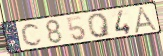4: (114, 9, 132, 35)
5: (65, 14, 87, 42)
8: (44, 19, 65, 45)
A: (133, 6, 160, 35)
C: (20, 22, 44, 47)
Q: (86, 12, 113, 39)
